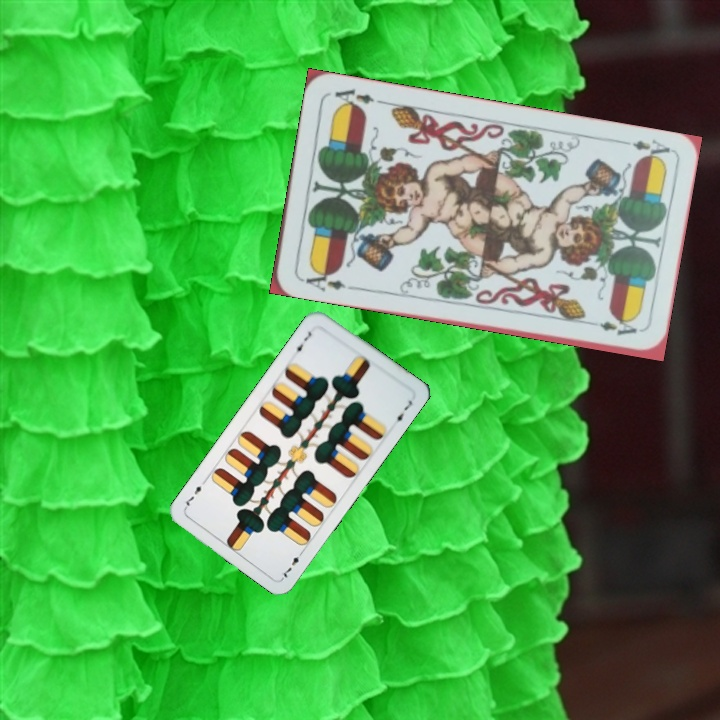E7: (277, 546, 307, 581), (289, 327, 314, 357)
EA: (296, 264, 355, 294), (628, 135, 673, 164)
